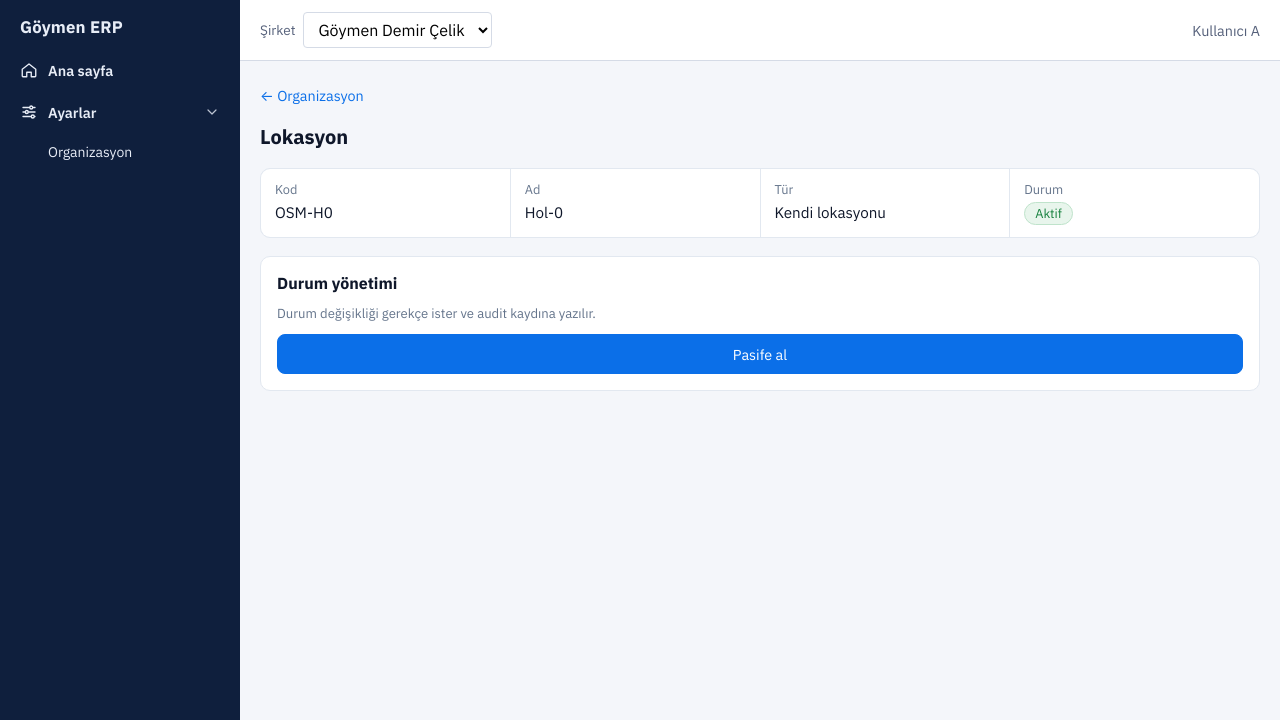
Test: the justification is mandatory › refuses an empty reason and mints NO key
Step 1. Click the button "Pasife al" → (760, 354), box [277,334,1243,374]
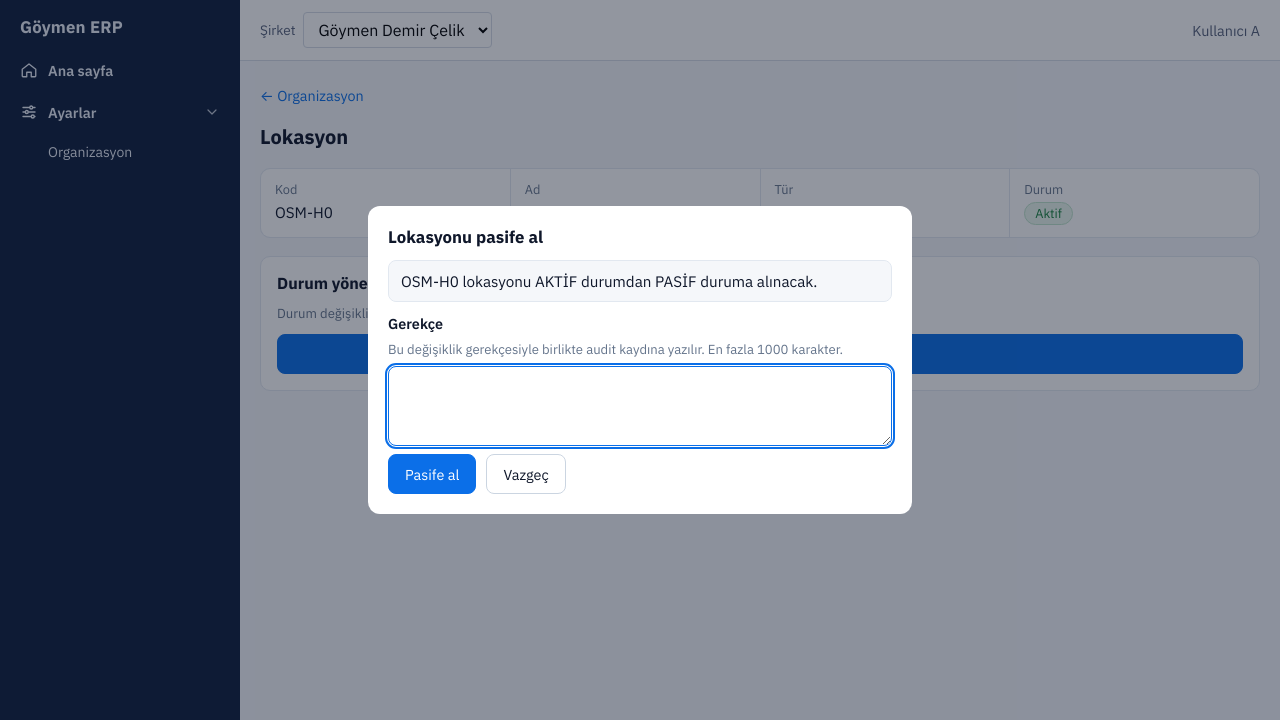
Step 2. Click the button "Pasife al" below "Lokasyonu pasife al" → (432, 474), box [388,454,476,494]
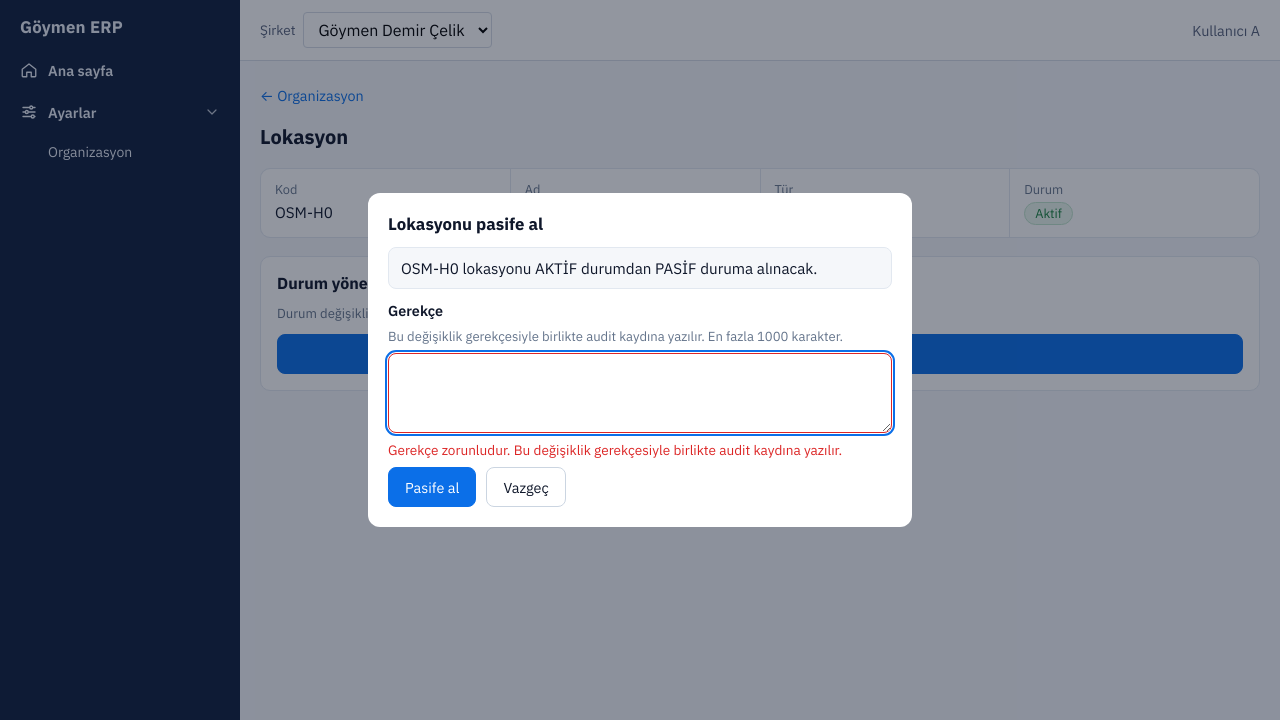
Result: the text "Gerekçe zorunludur. Bu değişiklik gerekçesiyle birlikte audit kaydına yazılır." is shown at [388,441,892,459]
